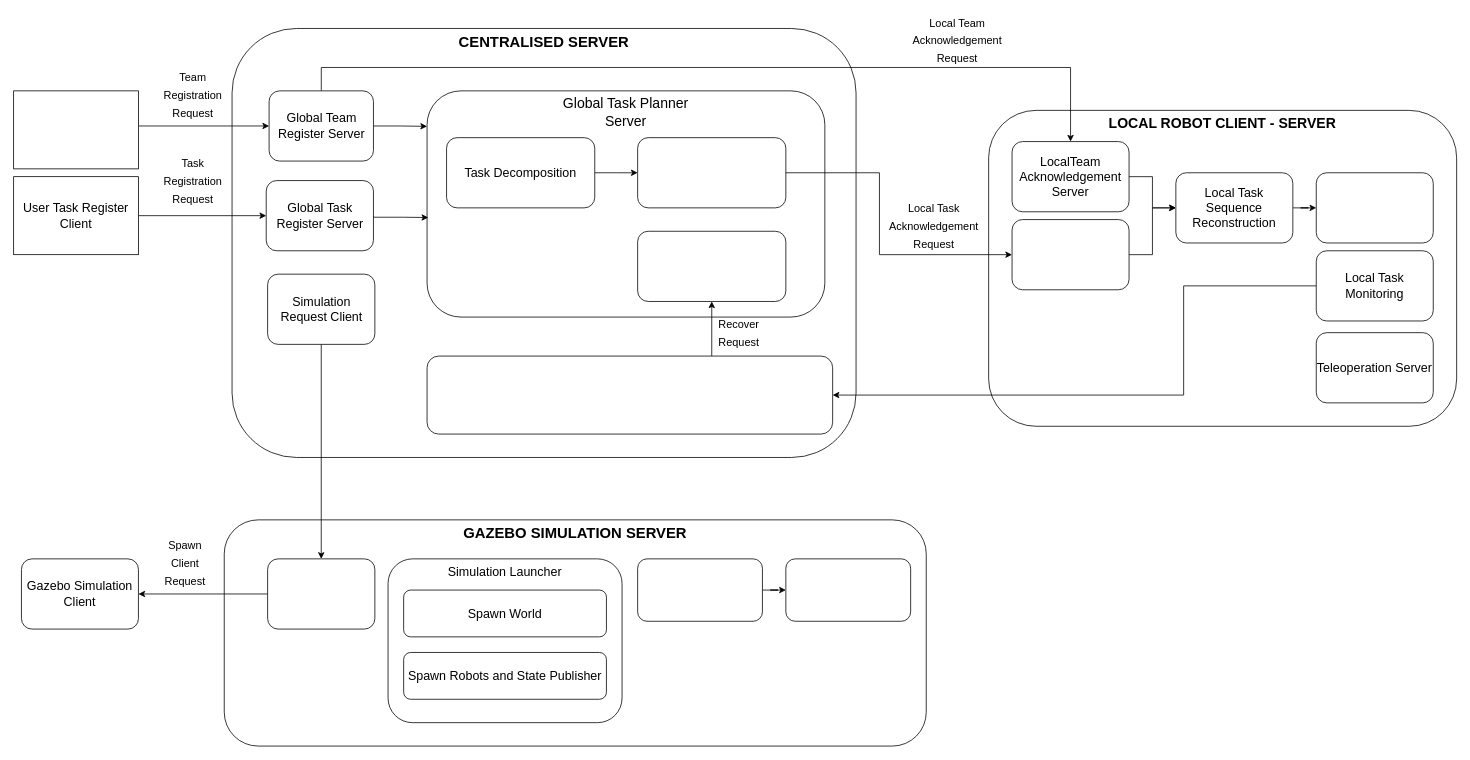
Image size: 1470x760. Some labels were removed from this diagram. The shapes that lost their labels are listed below. From the top down, each one's centre as x and y in pixels, then its label:
At [75,129]: "User Team Register Client".
At [711,172]: "Task Allocation".
At [1374,207]: "Local Task Execution Planner".
At [711,265]: "Recorver Planner".
At [1070,254]: "Local Task Ackowledgement Server".
At [629,394]: "Global Task Monitoring Server".
At [321,593]: "Simulation Request Server".
At [699,589]: "Spawn Local Robot Client - Server".
At [848,589]: "Register Simulated Robot with Local Client - Server".
